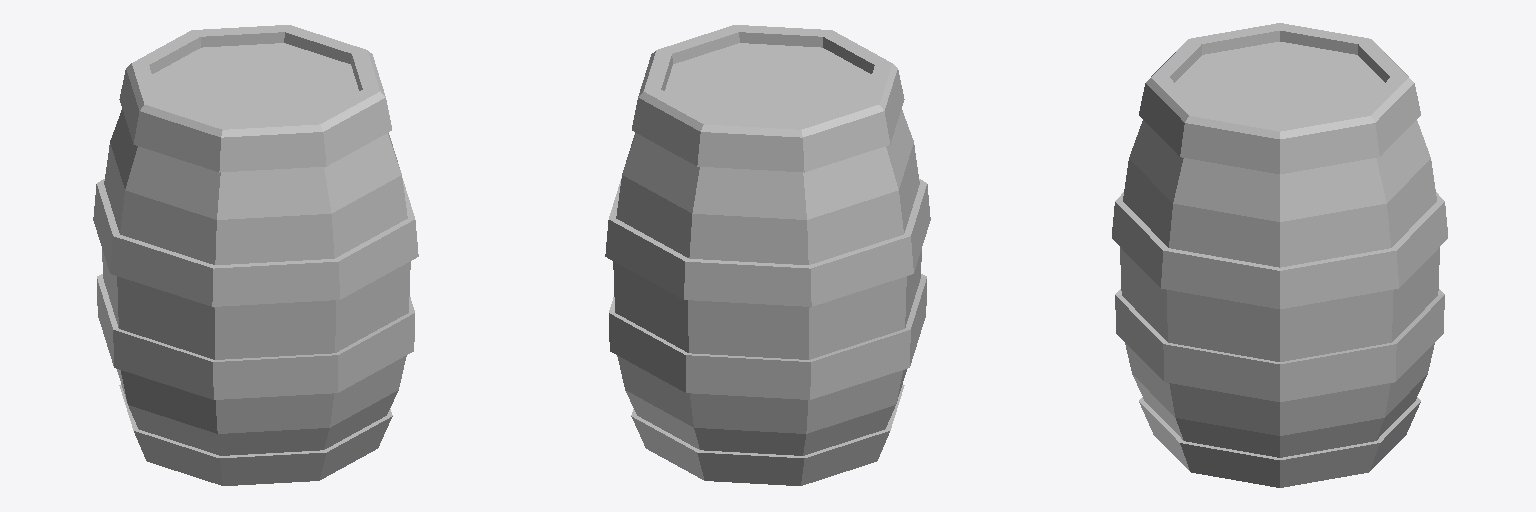
The model's file is Barrel.obj.
3 views of the same model, side by side, from view 1: azimuth 30°, elevation 25°; view 2: azimuth 150°, elevation 25°; view 3: azimuth 270°, elevation 25° (orthographic).
Size of the model in its own units: 0.9309 by 1.09 by 0.9309.